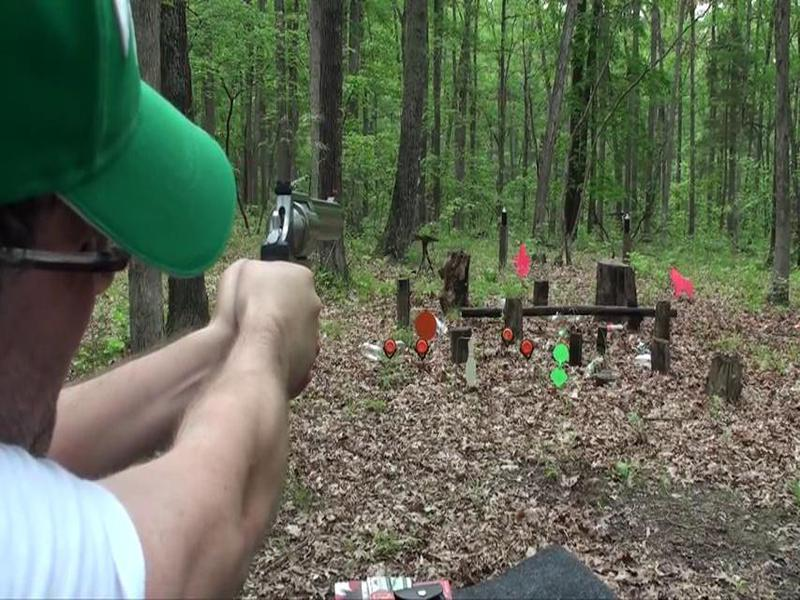Revolver: (237, 168, 389, 323)
